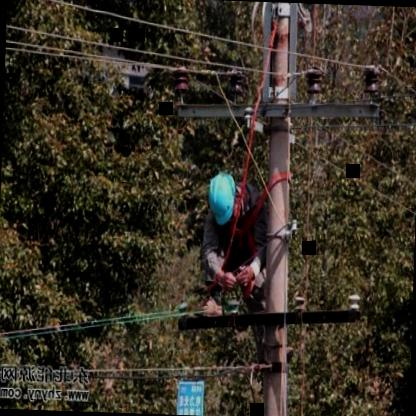helmet: (206, 170, 242, 236)
